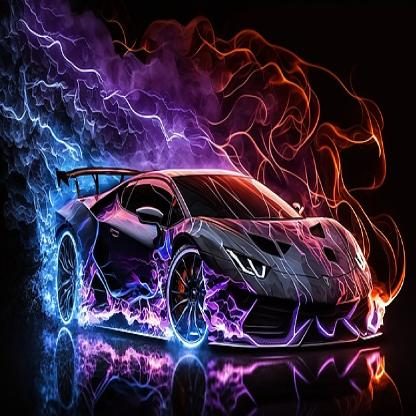car: (55, 160, 378, 348)
